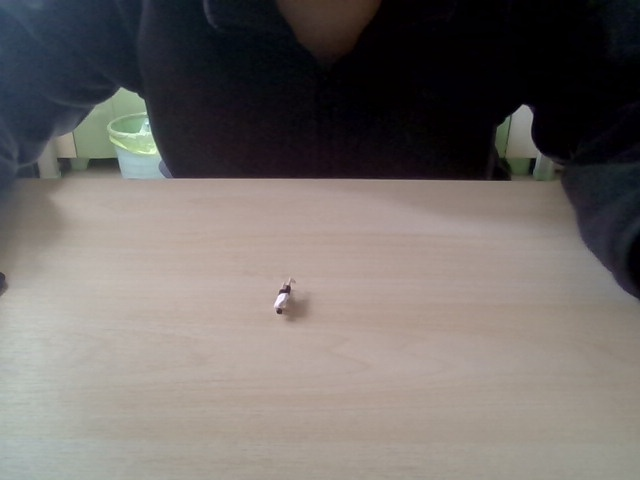fall: (270, 271, 303, 323)
